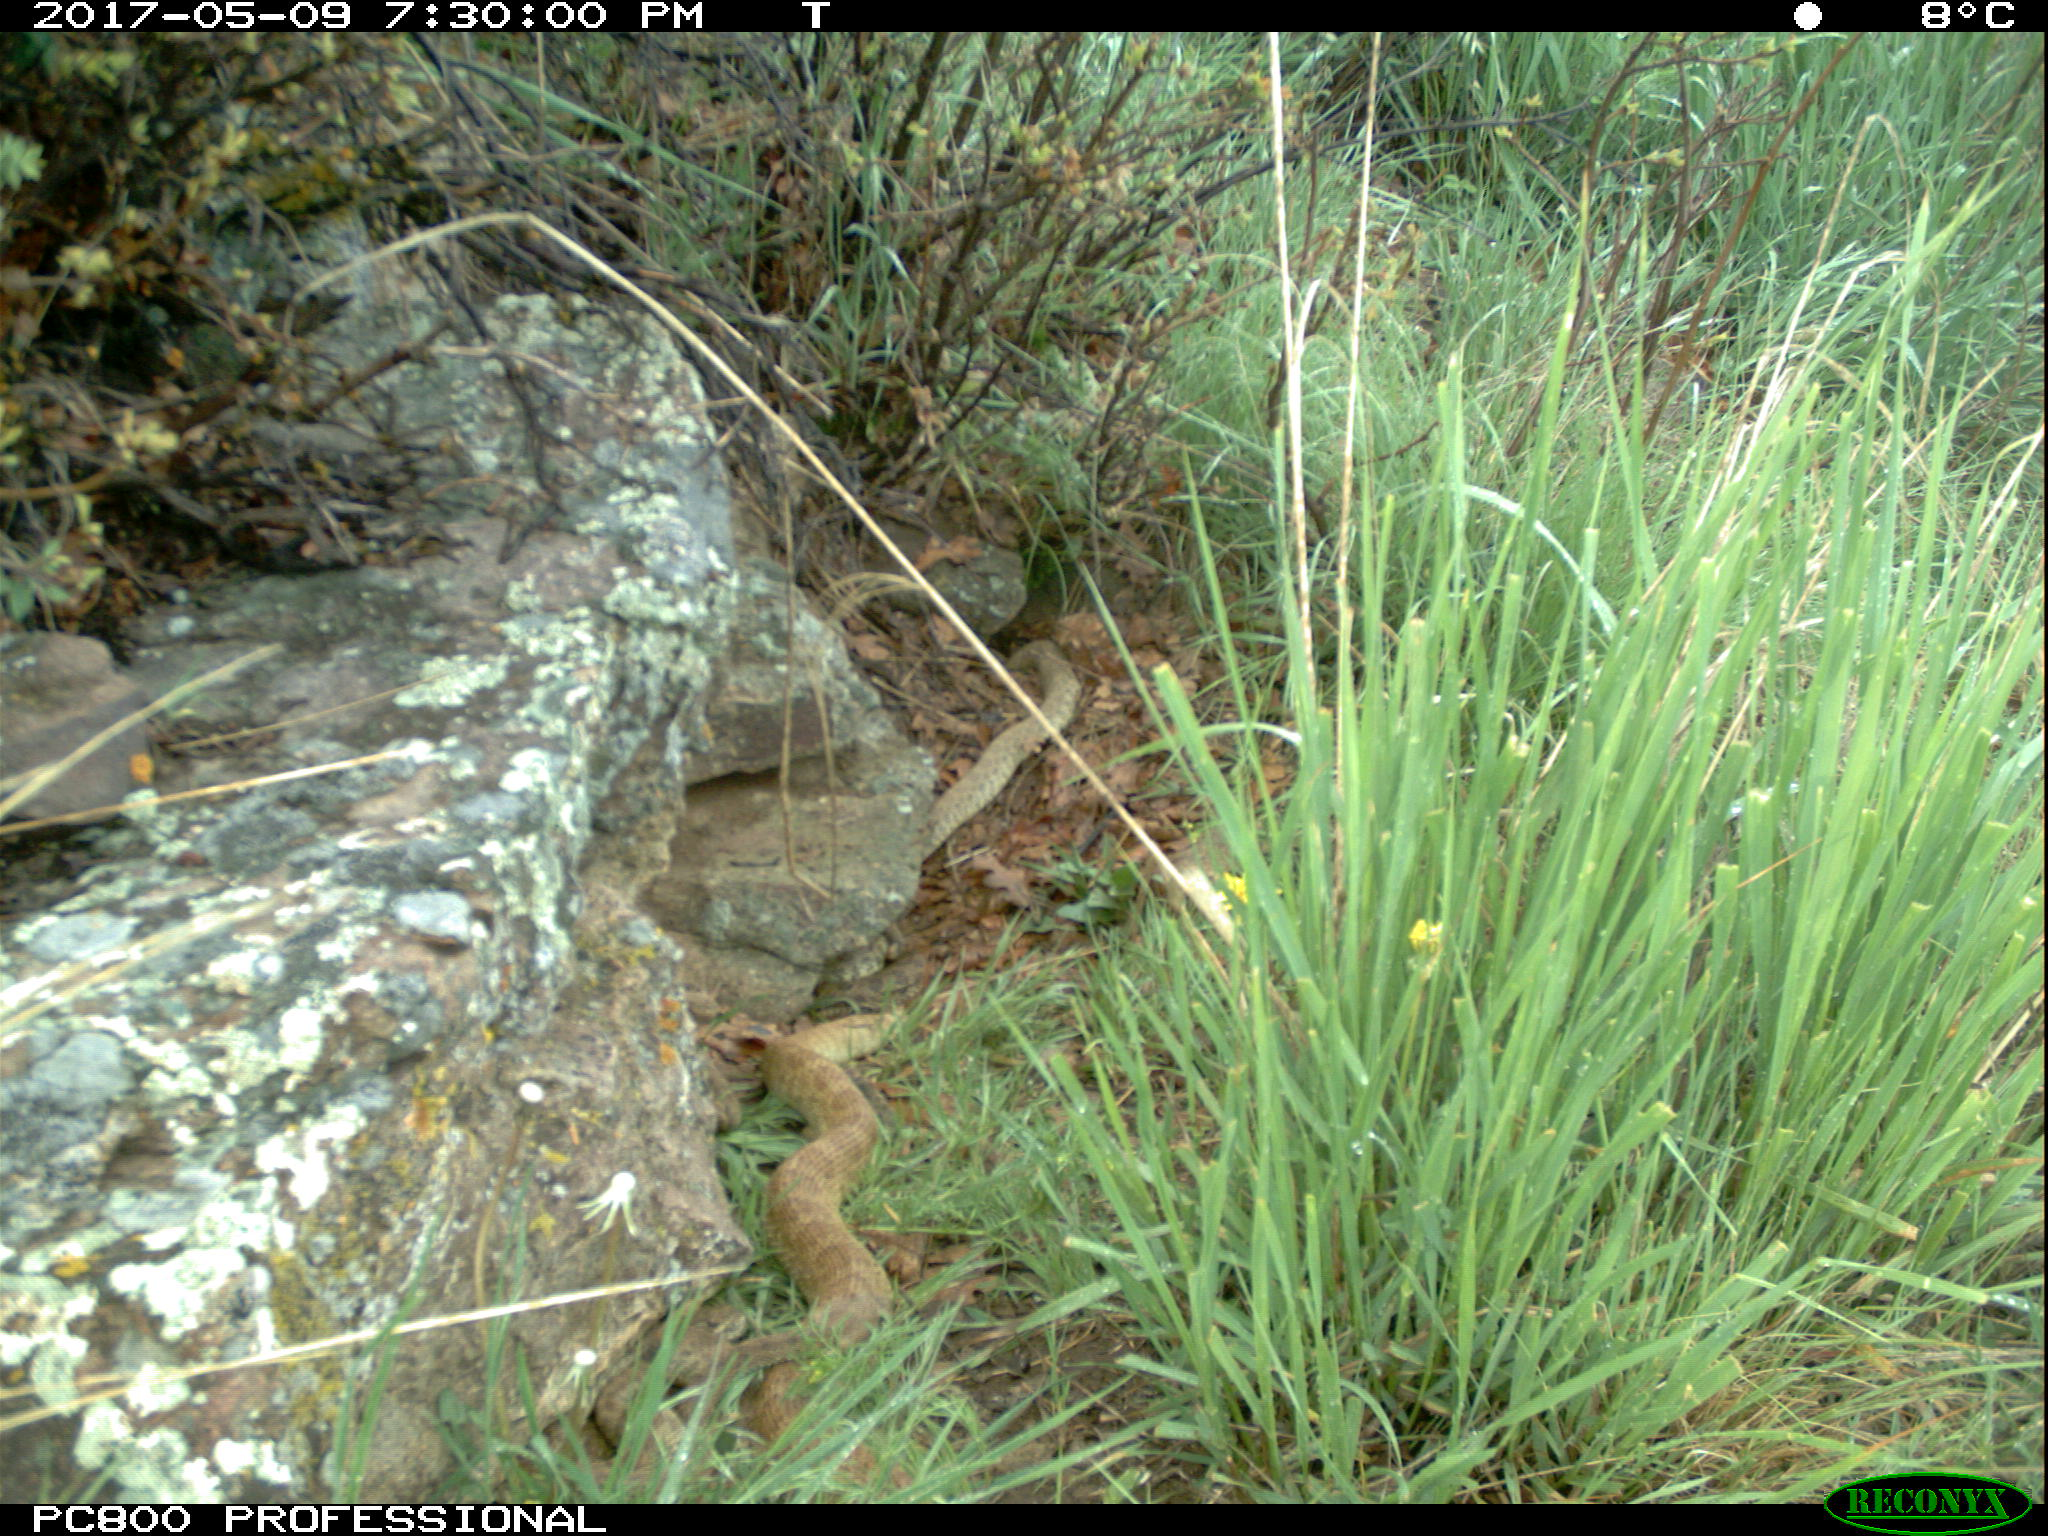snake: (747, 1004, 916, 1489), (926, 637, 1080, 863), (610, 1352, 716, 1501)
